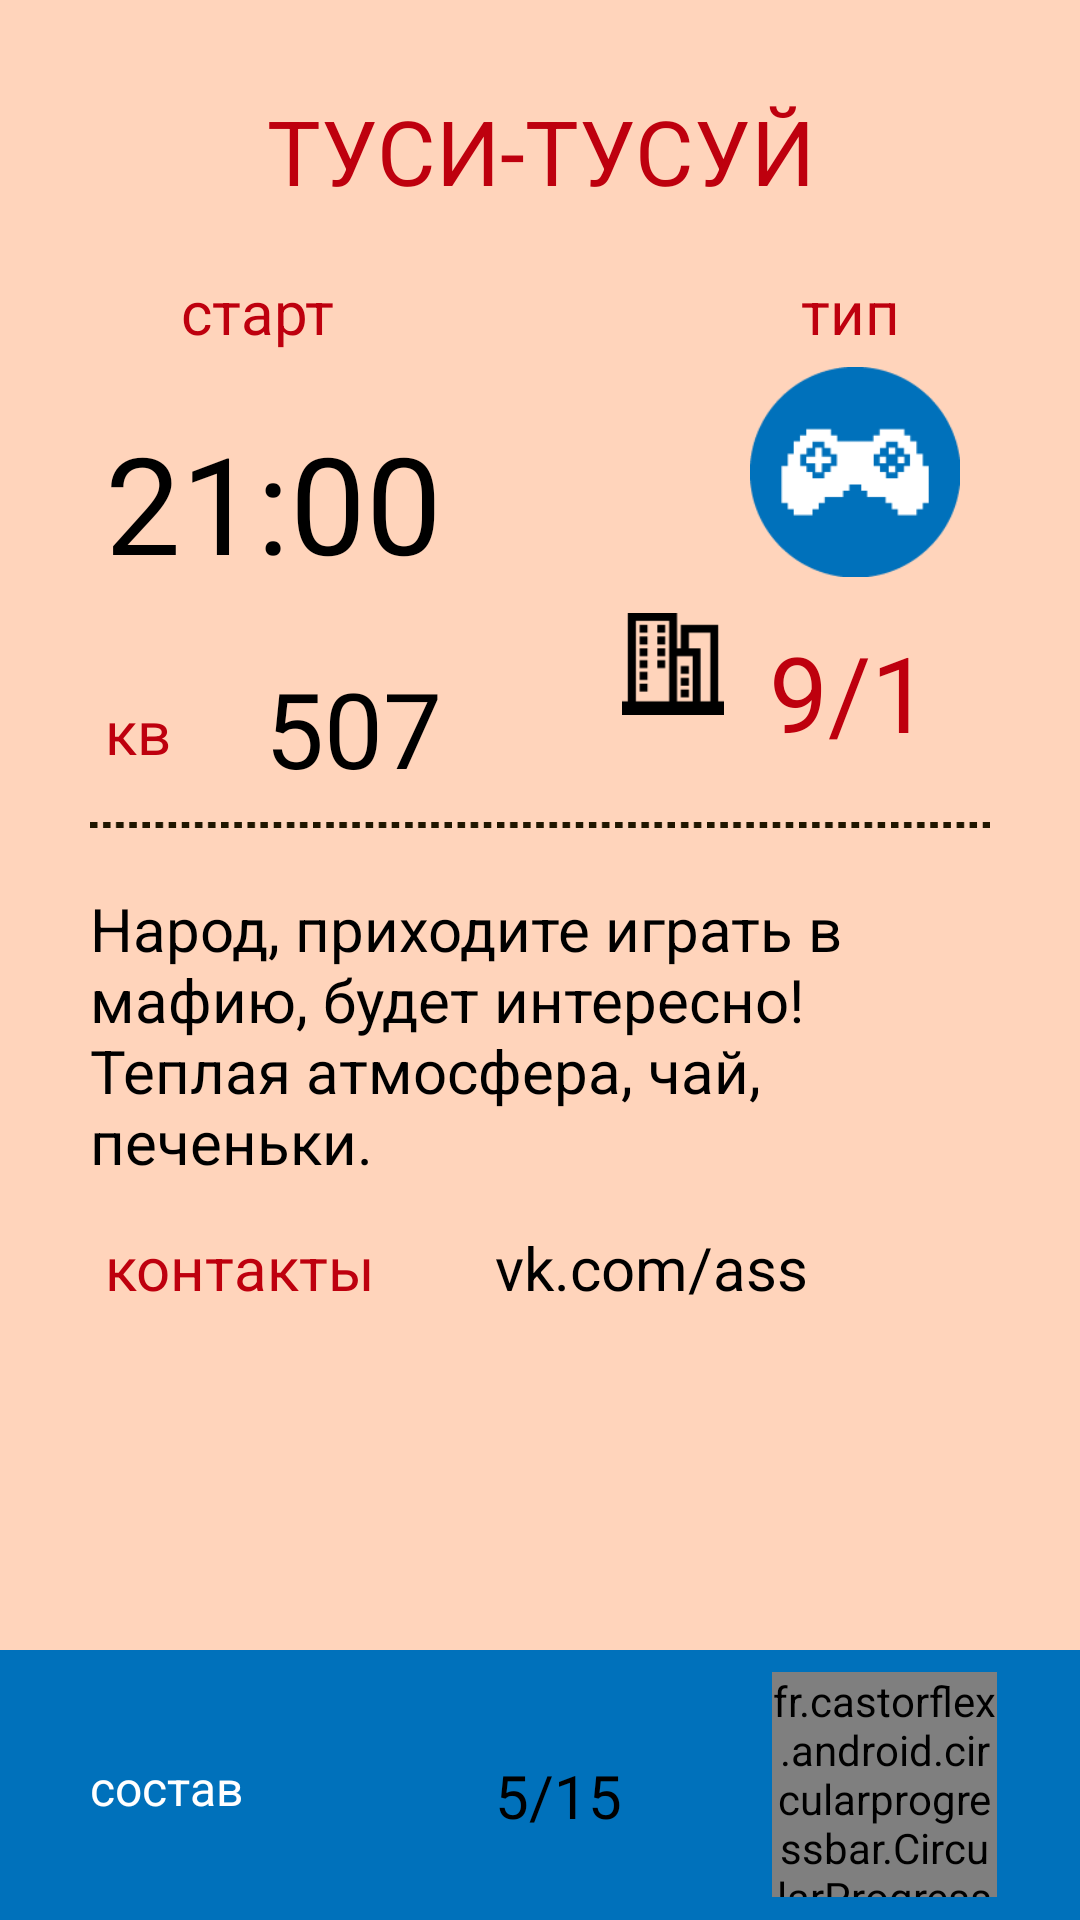

Named icons in this screenshot (1080×1920) and their centers, [x,y]:
games: [855,472]
house: [673,664]
